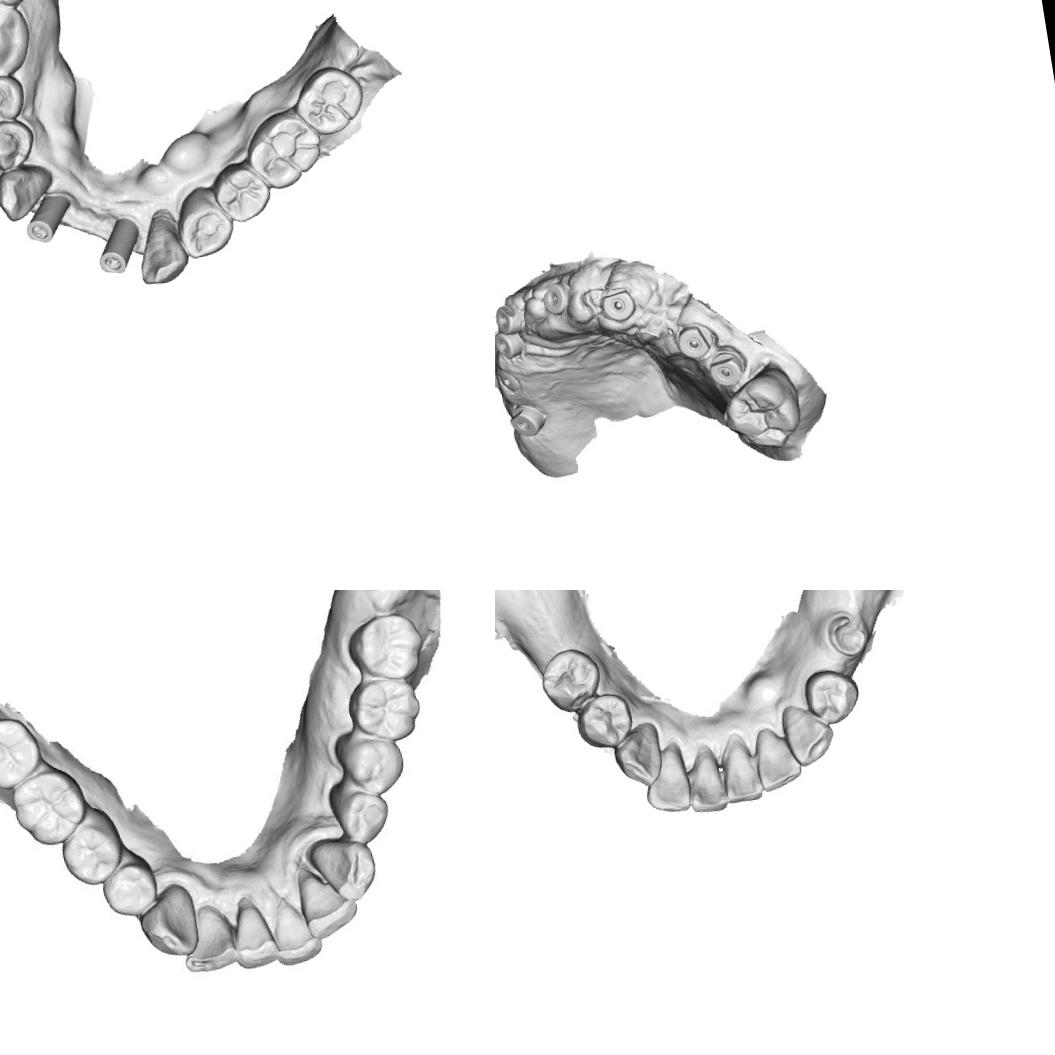canine: (307, 828, 379, 903), (131, 205, 194, 289), (136, 882, 200, 955), (608, 720, 668, 792), (778, 698, 838, 770), (0, 160, 59, 224)
implant: (15, 187, 78, 249), (90, 212, 147, 278), (672, 319, 718, 362), (596, 282, 640, 325), (706, 345, 748, 390), (506, 398, 548, 440), (538, 278, 573, 318), (495, 299, 525, 337), (495, 326, 525, 362), (495, 363, 522, 396)
incisor: (267, 887, 324, 970), (636, 740, 696, 816), (177, 912, 244, 979), (296, 859, 352, 934), (230, 898, 282, 971), (750, 725, 804, 795), (682, 747, 730, 817), (717, 737, 766, 805)
molar: (717, 368, 808, 458), (240, 104, 328, 194), (288, 61, 370, 141), (348, 609, 428, 683), (11, 766, 83, 848), (350, 673, 423, 744), (0, 0, 37, 84), (0, 714, 41, 787)
premolar: (170, 181, 240, 262), (534, 642, 607, 719), (571, 686, 640, 753), (209, 158, 274, 225), (800, 664, 864, 729), (60, 819, 121, 883), (94, 861, 160, 918), (342, 736, 404, 795), (333, 787, 393, 845), (0, 115, 40, 175), (0, 71, 29, 129)
